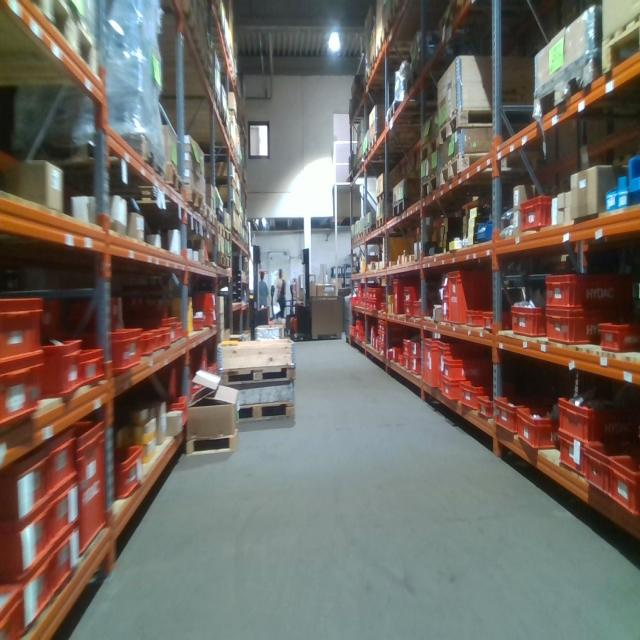pallet: (2, 2, 98, 94), (26, 137, 167, 191), (533, 50, 599, 120), (441, 101, 532, 147), (440, 152, 549, 187), (599, 18, 639, 81), (385, 99, 445, 138), (238, 390, 297, 425), (212, 363, 296, 386), (404, 61, 449, 96), (165, 183, 207, 218), (175, 88, 221, 117), (368, 134, 416, 159), (161, 161, 185, 201), (194, 201, 218, 230), (418, 133, 439, 163), (420, 170, 438, 202), (213, 105, 229, 133), (392, 199, 417, 216), (211, 247, 227, 271), (383, 19, 397, 45), (374, 214, 393, 231), (391, 0, 407, 20), (377, 188, 392, 204), (375, 36, 384, 61), (210, 222, 225, 236), (365, 227, 374, 241), (224, 228, 233, 242), (223, 256, 231, 270)
pallet_truck: (289, 248, 312, 345), (251, 244, 278, 325), (268, 275, 280, 329)
small_load_carrier: (67, 419, 110, 553), (553, 379, 631, 446), (5, 548, 56, 637), (543, 266, 631, 314), (2, 355, 51, 441), (0, 288, 50, 371), (2, 502, 54, 579), (2, 452, 53, 528), (78, 324, 145, 379), (582, 440, 631, 510), (448, 268, 497, 329), (42, 330, 80, 407), (45, 476, 82, 546), (433, 338, 474, 401), (41, 429, 79, 489), (46, 528, 80, 594), (543, 311, 597, 351), (606, 453, 640, 515), (515, 403, 558, 451), (71, 339, 104, 396), (509, 297, 545, 346), (554, 432, 588, 480), (597, 318, 637, 356), (459, 377, 500, 413), (437, 355, 486, 383), (117, 443, 141, 500), (494, 392, 522, 436), (522, 194, 554, 232), (2, 593, 26, 639), (420, 335, 439, 390), (391, 276, 414, 315), (168, 396, 189, 436), (481, 311, 511, 335), (156, 313, 176, 346), (438, 379, 464, 402), (140, 328, 155, 362), (478, 394, 498, 418), (464, 304, 481, 332), (411, 296, 430, 320), (157, 327, 170, 352), (410, 337, 424, 360), (403, 283, 419, 301), (404, 337, 415, 358), (441, 304, 452, 324), (197, 311, 207, 333), (152, 331, 163, 350), (441, 272, 450, 292), (404, 355, 413, 374), (401, 298, 410, 317), (411, 358, 421, 374), (374, 286, 385, 300), (371, 300, 382, 314), (392, 346, 400, 365), (177, 319, 185, 337), (380, 300, 391, 313), (441, 291, 450, 303), (398, 353, 406, 366)
